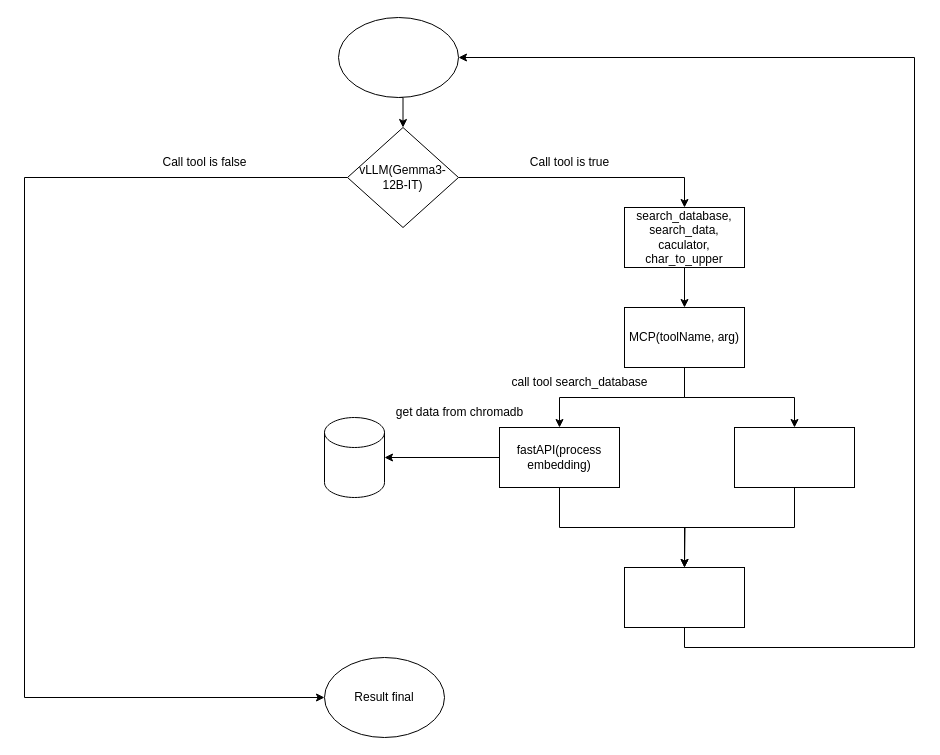
This 940x755 diagram has some shape labels left out. Here are the shapes that lost their labels. From the top down, the box of each, then its label:
(338, 16, 458, 98): Input UI(Question or Reqest or result from tool)
(734, 426, 854, 488): process tool
(624, 566, 744, 628): Result for tool
